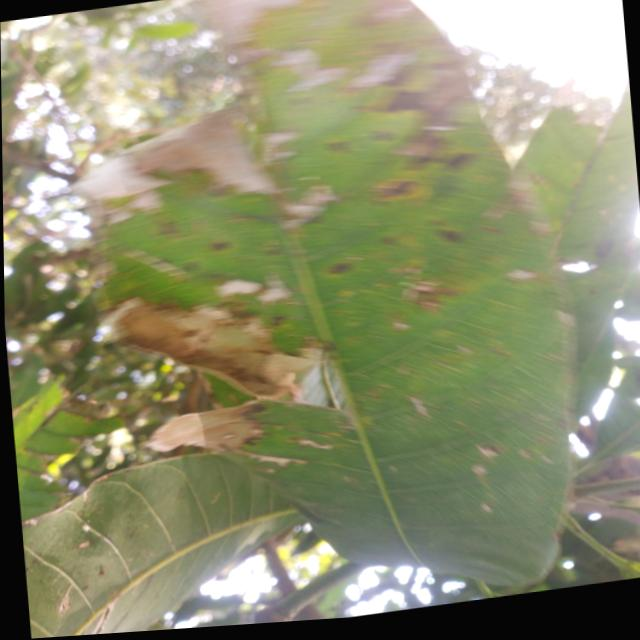Anthracnose: (378, 79, 440, 123), (322, 252, 363, 290), (435, 221, 472, 249)
Bacterial Cancer: (188, 110, 284, 194), (171, 305, 290, 369), (147, 411, 203, 456)
